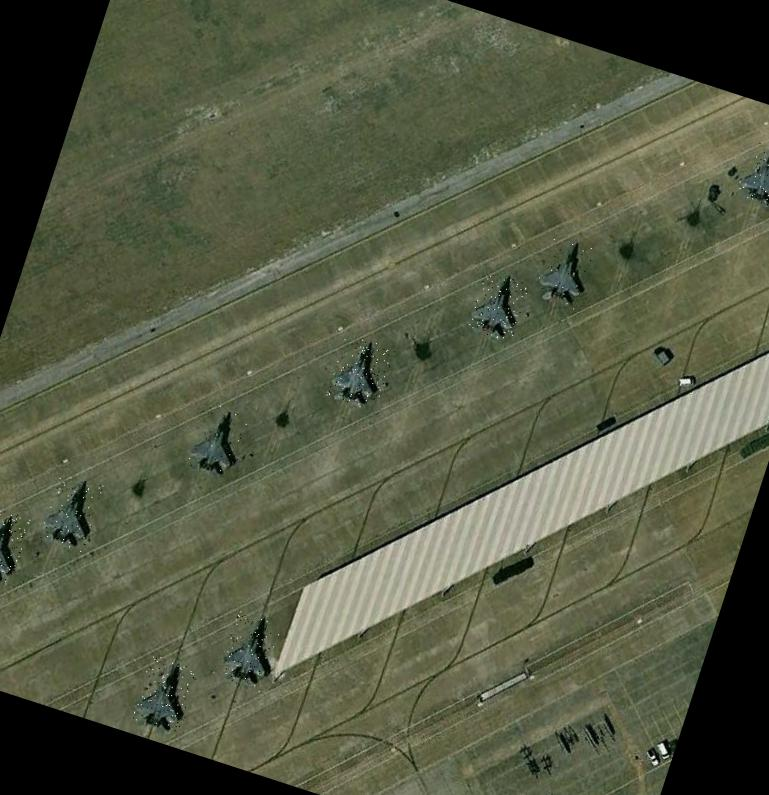A13: (326, 332, 396, 412), (130, 654, 199, 734), (216, 610, 282, 692), (38, 471, 104, 552), (184, 401, 250, 479), (533, 232, 598, 310), (466, 269, 530, 342), (0, 504, 31, 586), (734, 138, 769, 208)
